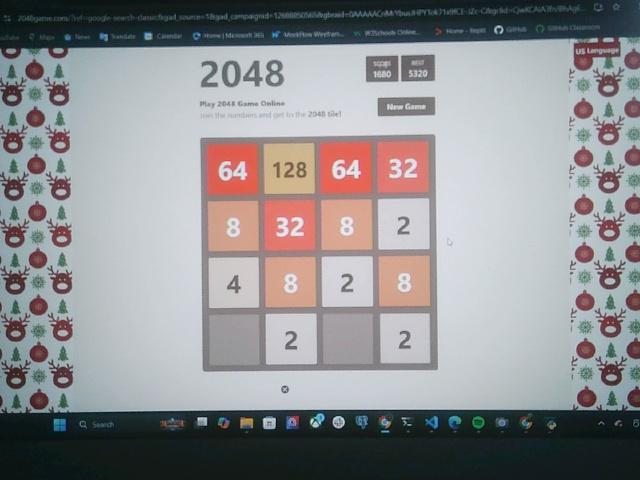best_score_box: (401, 55, 436, 83)
button: (378, 97, 435, 116)
score_box: (366, 56, 398, 81)
